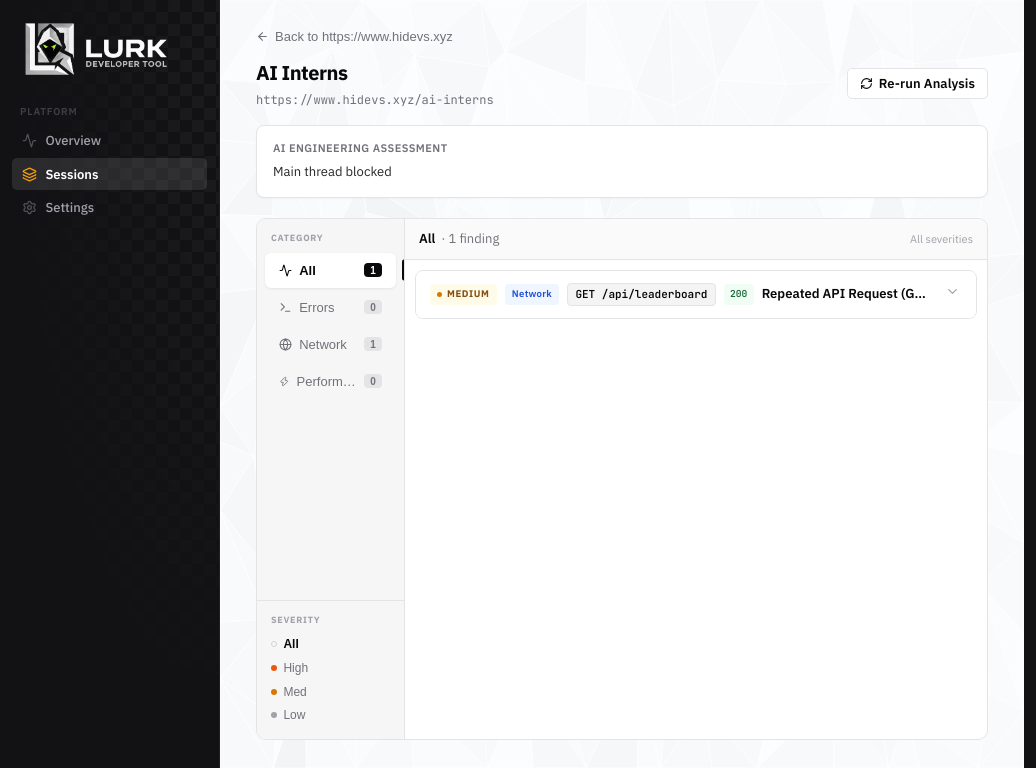
Milestone 4E — End-to-End Integration & Production Hardening › TEST 7: Page Analysis View renders finding cards and handles severity filters
Expected: the heading "AI Interns" is shown, [256, 59, 348, 86]
Expected: the text "AI Engineering Assessment" is shown, [273, 141, 448, 155]
Test Low severity filter
Click the button "Low".
click(330, 715)  # box [271, 703, 390, 727]
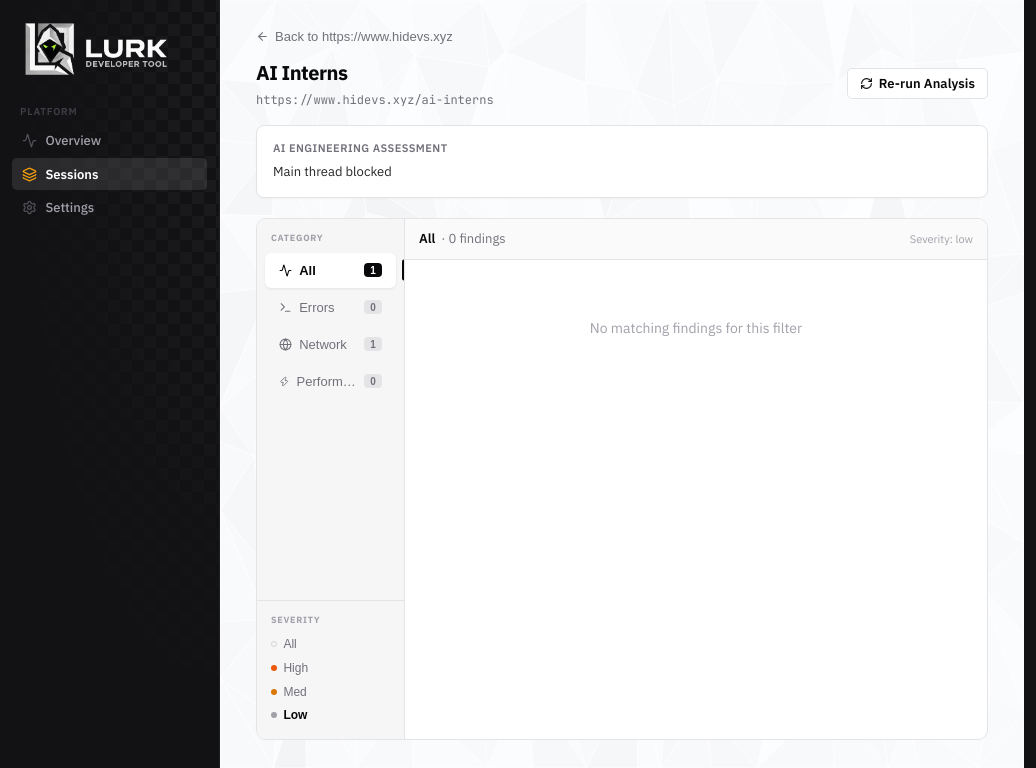
Expected: the text "No matching findings for this filter" is shown, [590, 319, 802, 337]
Test Medium filter
Click the button with aria-label "medium".
click(330, 692)  # box [271, 680, 390, 703]
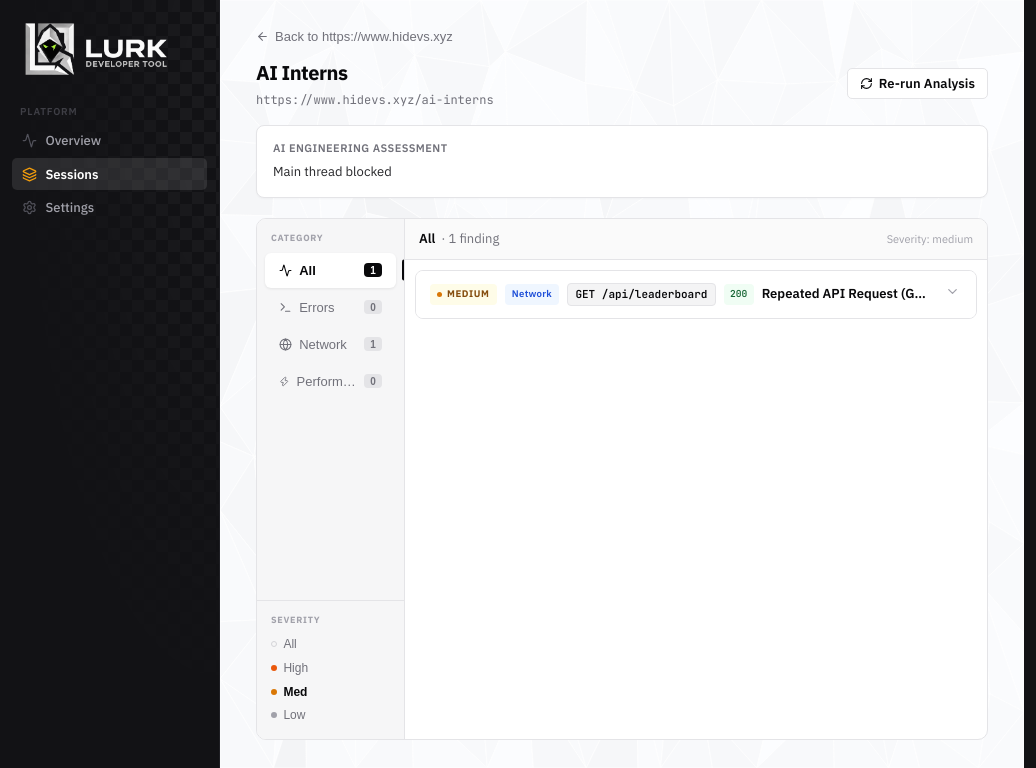
Expected: the text "Repeated API Request (GET /api/leaderboard)" is shown, [762, 284, 933, 304]
